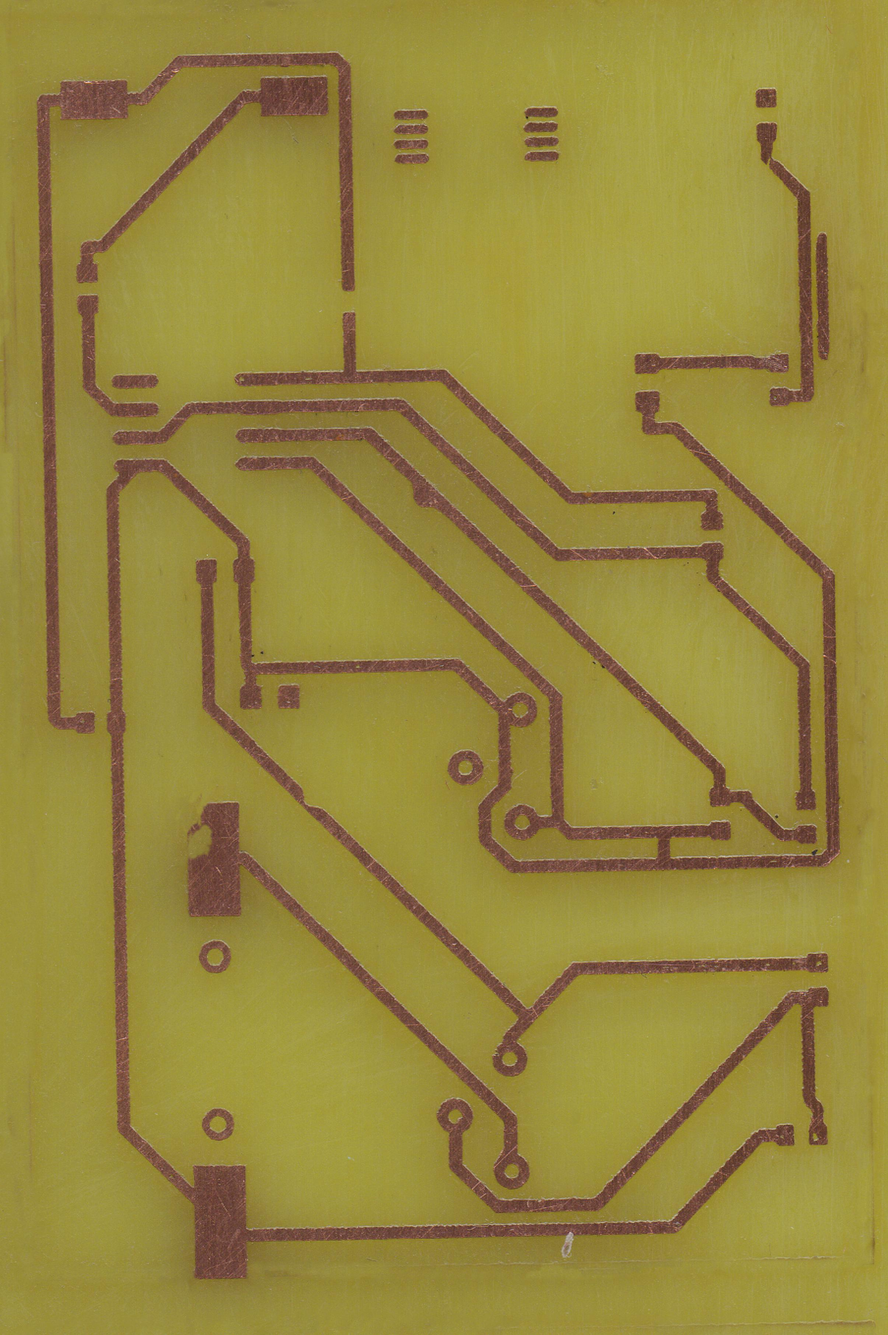missing_hole: (186, 800, 241, 919)
mouse_bite: (283, 787, 328, 815)
open_circuit: (335, 277, 362, 322)
short: (650, 823, 681, 873)
spur: (408, 480, 448, 512)
spurious_copper: (812, 230, 836, 364)
